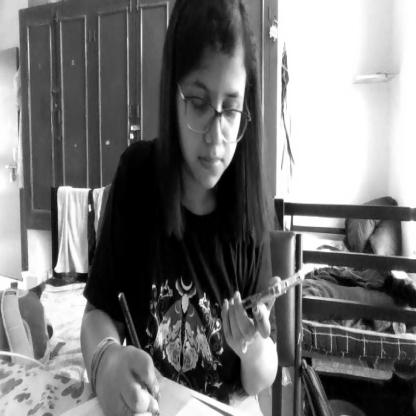Distracted: (168, 0, 253, 194)
